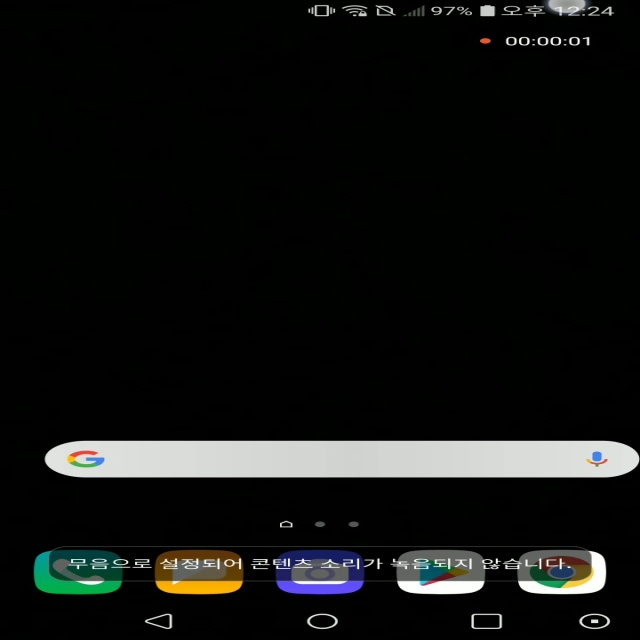Cursor: (544, 1, 590, 16)
